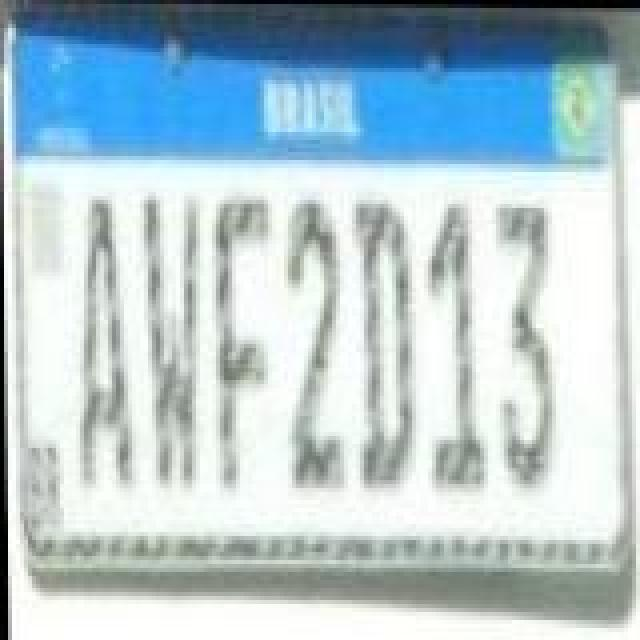1: (422, 194, 490, 490)
2: (282, 196, 350, 500)
3: (490, 198, 558, 494)
A: (72, 194, 136, 498)
D: (346, 200, 414, 496)
F: (212, 196, 276, 496)
W: (140, 194, 204, 490)
